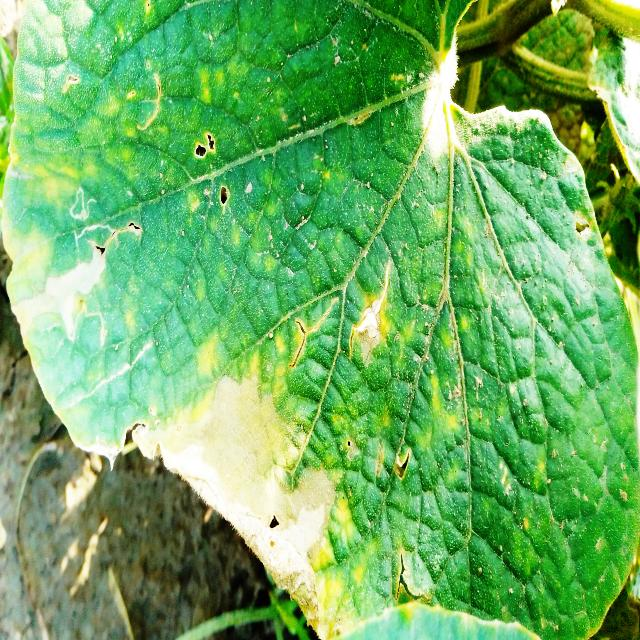Gummy-Stem-Blight: (70, 374, 338, 639)
